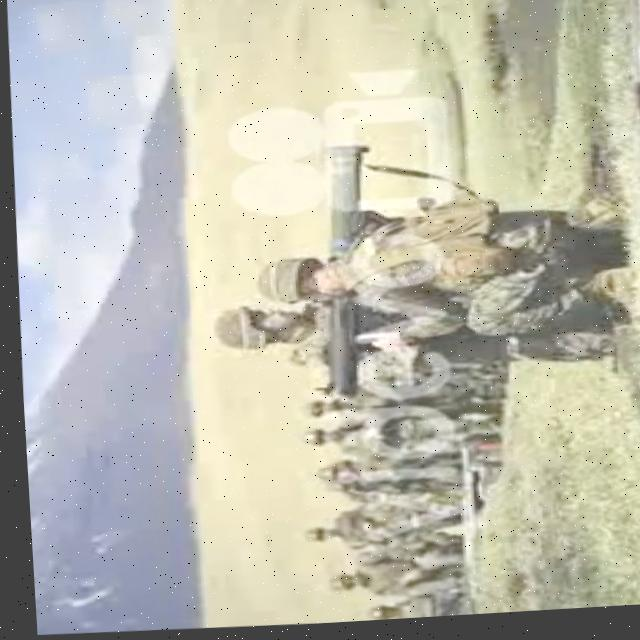rocket: (304, 150, 381, 410)
